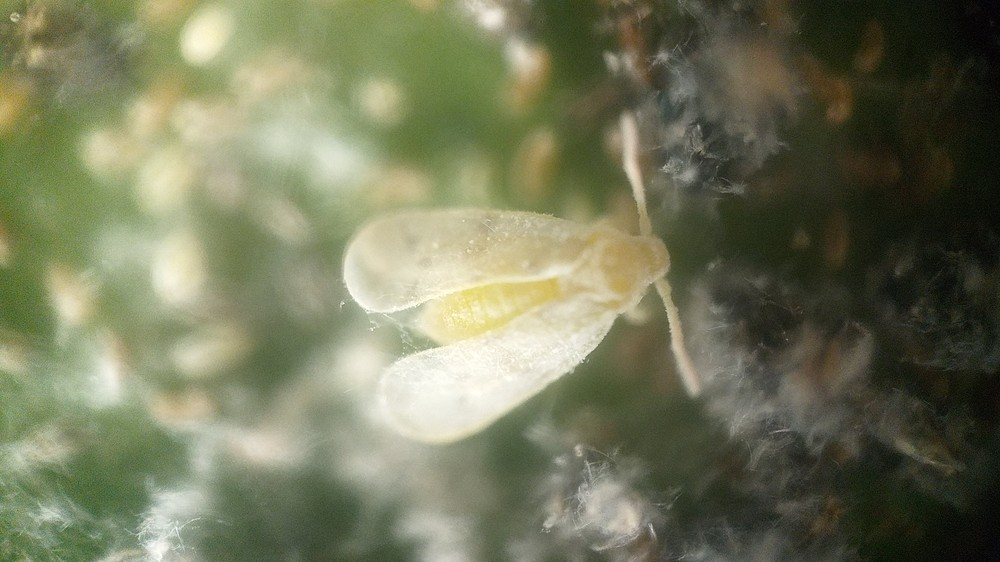Mosca Blanca: (336, 109, 716, 460)
